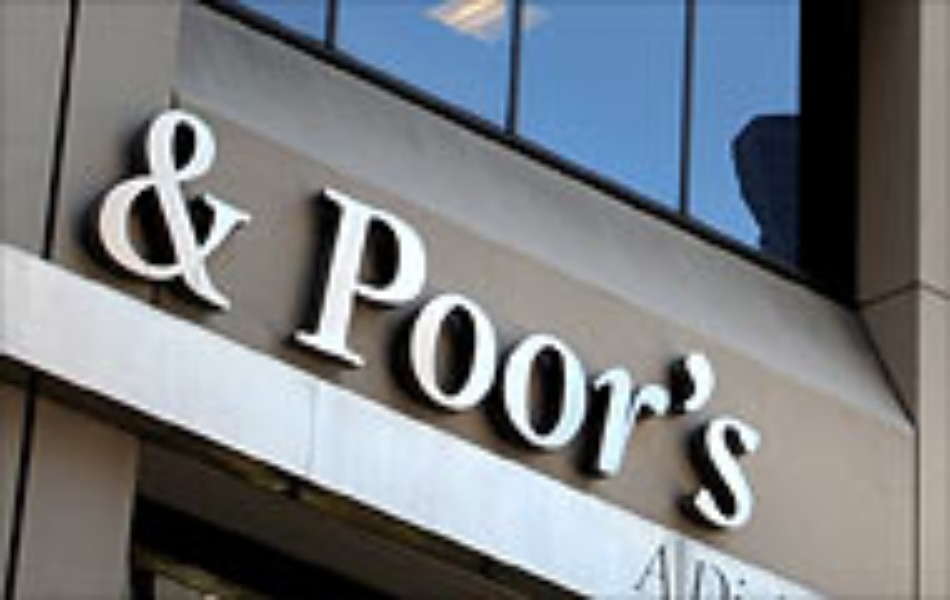text: (321, 176, 336, 541), (337, 176, 352, 541), (353, 176, 368, 541), (369, 176, 384, 541), (385, 176, 400, 541), (401, 176, 416, 541), (417, 176, 432, 541), (433, 176, 448, 541), (449, 176, 464, 541), (465, 176, 480, 541), (481, 176, 496, 541), (497, 176, 512, 541), (513, 176, 528, 541), (529, 176, 544, 541), (545, 176, 560, 541), (561, 176, 576, 541), (577, 176, 592, 541), (593, 176, 608, 541), (609, 176, 624, 541), (625, 176, 640, 541), (641, 176, 656, 541), (657, 176, 672, 541), (673, 176, 688, 541), (689, 176, 704, 541), (705, 176, 720, 541), (721, 176, 736, 541), (737, 176, 752, 541), (113, 106, 128, 311), (129, 106, 144, 311), (145, 106, 160, 311), (161, 106, 176, 311), (177, 106, 192, 311), (193, 106, 208, 311), (209, 106, 224, 311), (225, 106, 240, 311), (241, 106, 256, 311), (753, 176, 761, 541), (257, 106, 271, 311), (657, 541, 672, 600), (689, 551, 704, 600), (705, 551, 720, 600), (721, 551, 736, 600), (646, 541, 656, 600), (111, 106, 112, 311), (673, 541, 676, 600), (686, 551, 688, 600)
